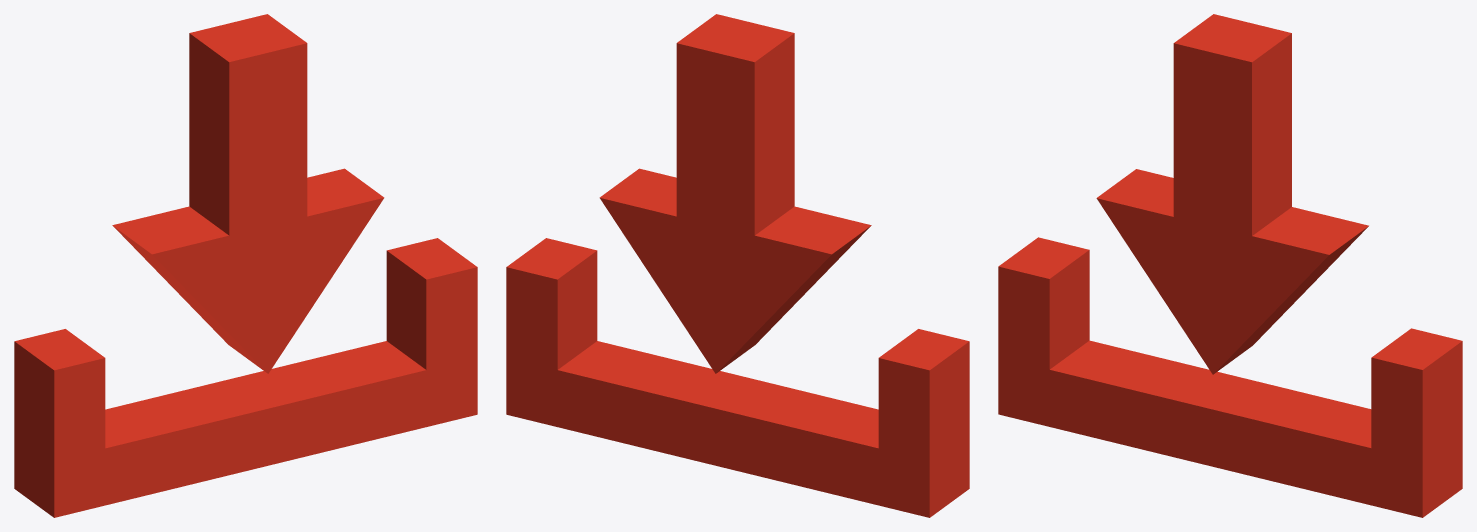
Rendered from Icon_Download.fbx.
3 renders of one model, left to right at view 1: azimuth 30°, elevation 25°; view 2: azimuth 150°, elevation 25°; view 3: azimuth 330°, elevation 25°, orthographic.
Visible parts, largest first — view 1: Icon_Download; view 2: Icon_Download; view 3: Icon_Download.
Part boxes in pixels (x1,y1,x2,y2): Icon_Download: (14, 14, 477, 517); Icon_Download: (506, 14, 969, 517); Icon_Download: (998, 14, 1462, 517).
Size of the model in its own units: 74.03 by 69.02 by 12.06.
